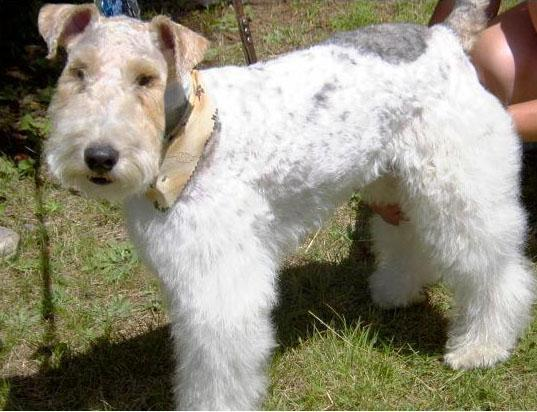wire-haired_fox_terrier: (34, 6, 535, 410)
